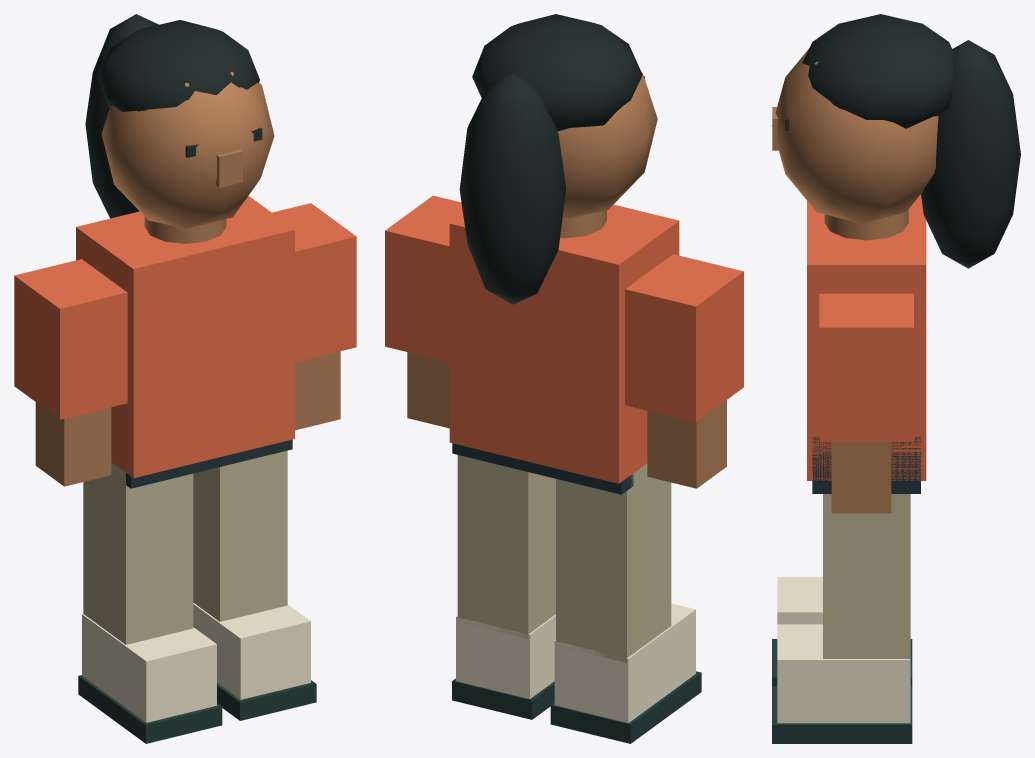
The model's file is female-ponytail.glb.
The picture shows the model from 3 angles, left to right: view 1: azimuth 30°, elevation 25°; view 2: azimuth 150°, elevation 25°; view 3: azimuth 270°, elevation 25°; orthographic projection. The views are drawn at different scales.
Visible parts, largest first — view 1: female-ponytail, avatar-hair; view 2: female-ponytail, avatar-hair; view 3: female-ponytail, avatar-hair.
Boxes of the visible parts, x1,y1,x2,y2 form: female-ponytail: (14, 20, 356, 743); avatar-hair: (85, 14, 158, 218); female-ponytail: (385, 14, 743, 743); avatar-hair: (459, 73, 566, 304); female-ponytail: (772, 14, 954, 743); avatar-hair: (921, 40, 1020, 268).
Size of the model in its own units: 1.01 by 2.13 by 0.71.
